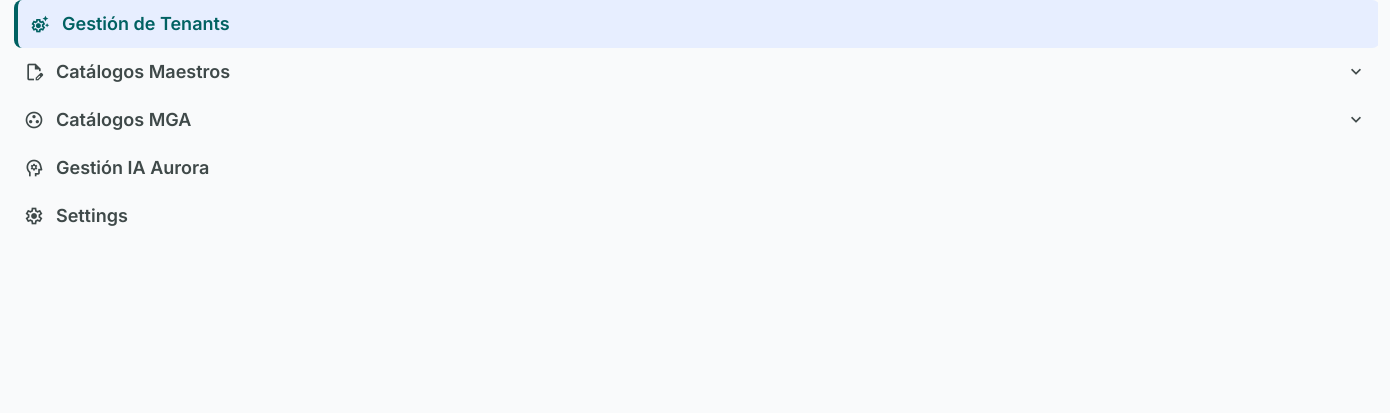
Test: NavFromModules › ADMIN: enlaces simples, grupos desplegables y estilos del menú de Super Admin
The image size is (1390, 413).
Expected: the link "Sectores" is not shown
Click the button "Catálogos Maestros" at (143, 72), box [12,48,1378,96]
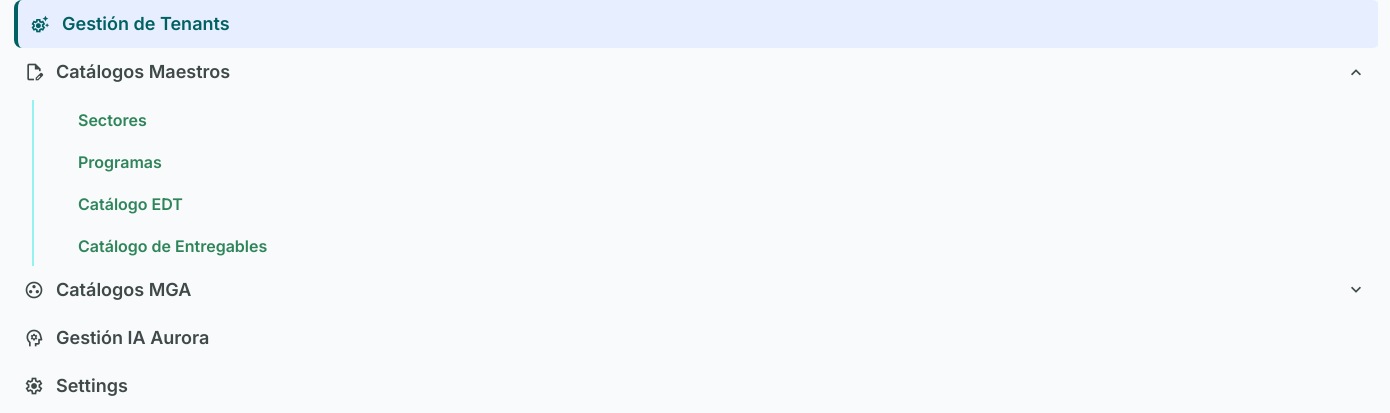
Now the button "Catálogos Maestros" is expanded
Now the link "Catálogo de Entregables" is shown, box [78,236,267,256]
Click the button "Catálogos Maestros" at (143, 72), box [12,48,1378,96]
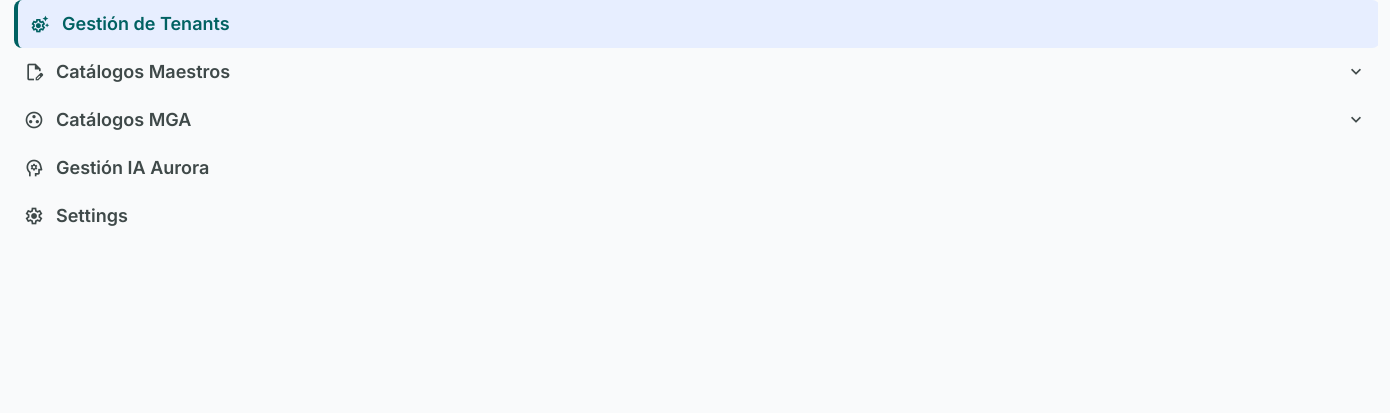
Now the link "Sectores" is gone
